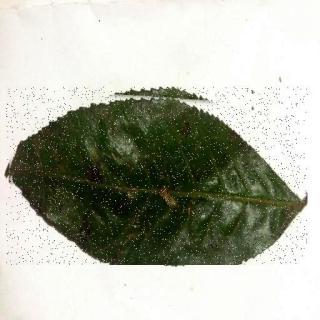Red Leaf Spot: (8, 88, 309, 266)
